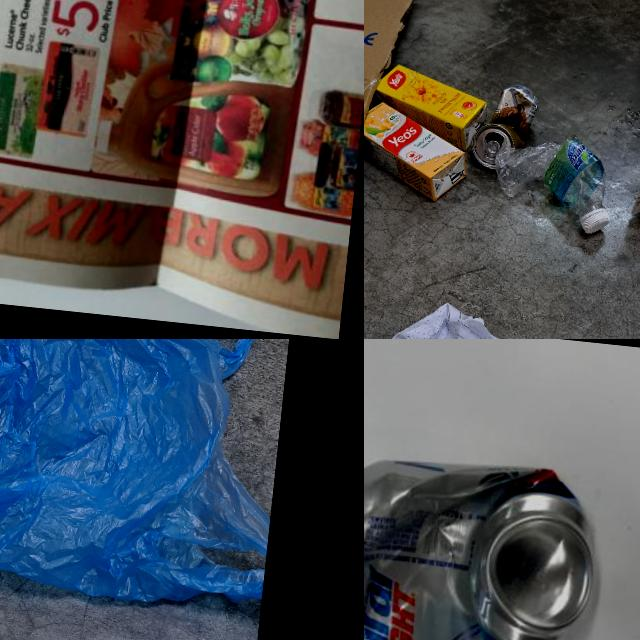aba de lata: (483, 140, 500, 161)
caixinha: (364, 98, 471, 203), (368, 62, 488, 153)
garrafa plástica: (488, 132, 608, 218)
lata: (364, 442, 604, 640), (469, 79, 542, 170)
papel: (0, 0, 364, 339), (364, 293, 535, 339)
papelão: (364, 0, 419, 271)
sacola plástica: (0, 339, 293, 616)
tampa plástica: (579, 208, 611, 235)
